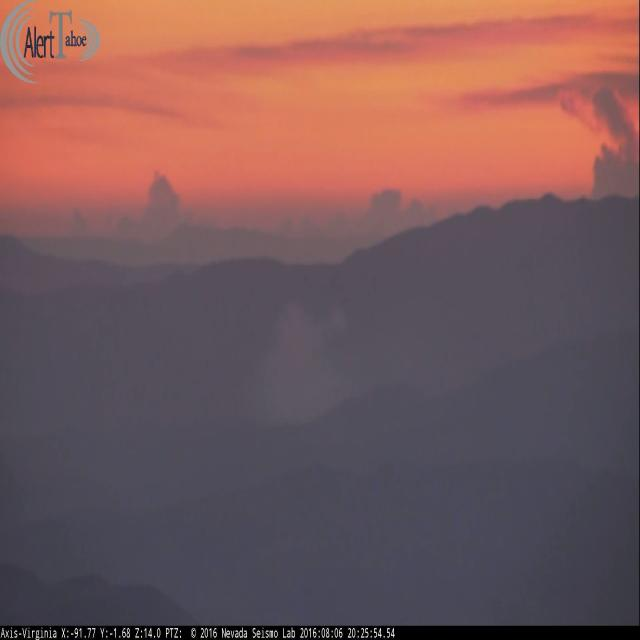smoke: (266, 288, 348, 424)
